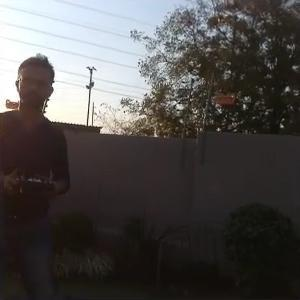follow: (0, 52, 91, 298)
